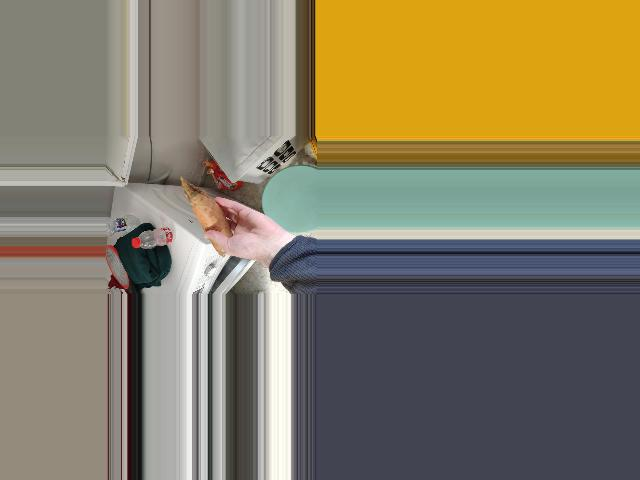sweet_potato: (192, 196, 230, 244)
